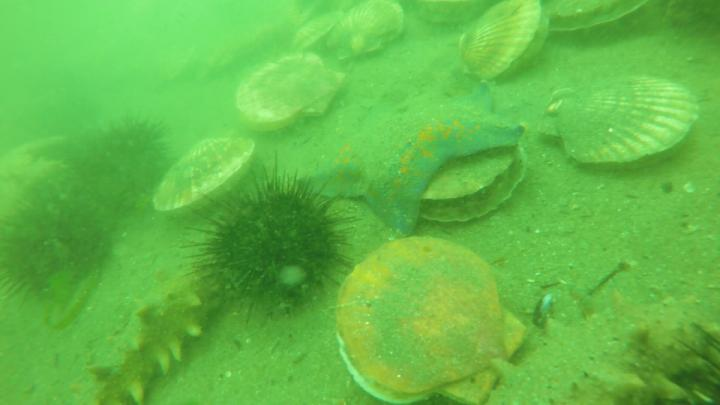echinus: (189, 173, 357, 318), (1, 172, 116, 310), (69, 115, 174, 211)
holothurian: (486, 261, 716, 405), (76, 263, 221, 405)
scallop: (327, 234, 527, 405), (537, 74, 702, 170), (421, 139, 529, 230), (152, 133, 258, 220), (231, 53, 349, 128), (455, 1, 552, 83), (325, 1, 408, 61), (551, 1, 656, 38), (287, 10, 341, 52)
starfish: (294, 74, 527, 234)
